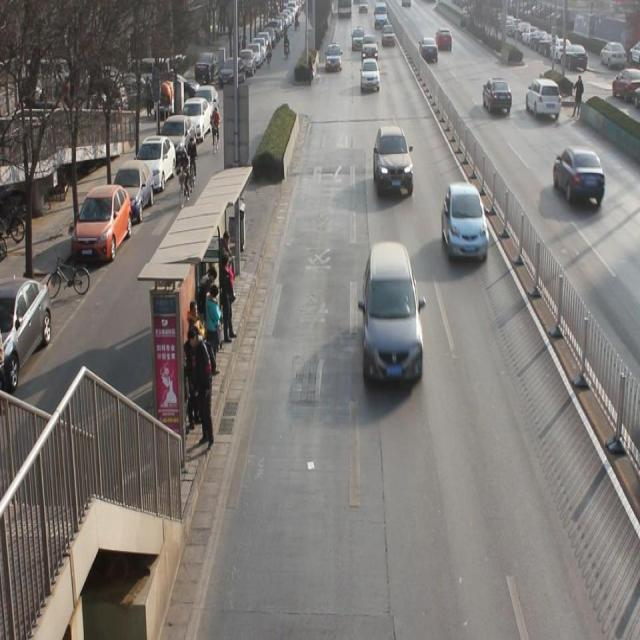car: (362, 246, 425, 388), (442, 186, 492, 266), (555, 144, 605, 212), (374, 128, 414, 192), (528, 76, 562, 122), (484, 78, 512, 116), (360, 60, 382, 92), (418, 38, 441, 65), (325, 45, 344, 76), (436, 27, 454, 55), (352, 27, 367, 54), (363, 34, 377, 60), (381, 25, 398, 46)
